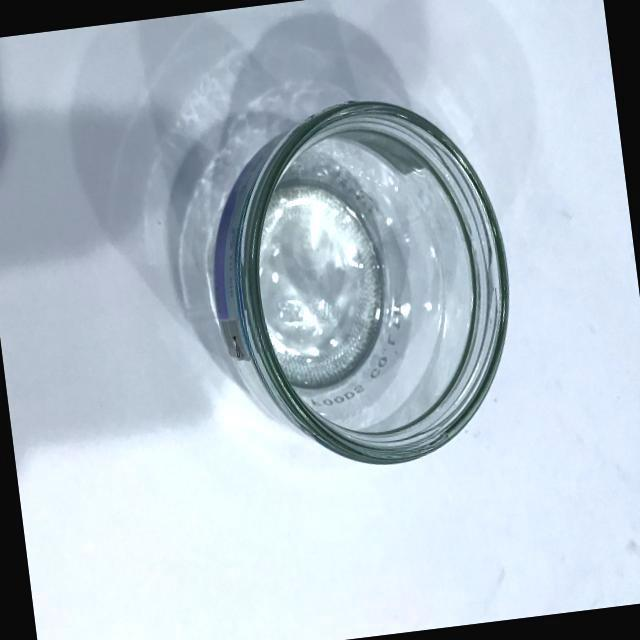glass: (182, 71, 545, 493)
